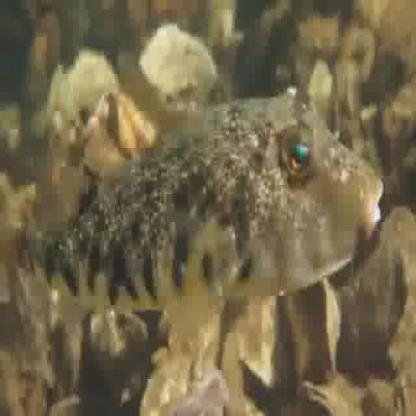Oyster- Indeterminate: (354, 247, 408, 361), (301, 382, 365, 416), (397, 375, 416, 416)
Oyster-Closed: (140, 22, 218, 113), (380, 202, 416, 373), (59, 46, 118, 132), (144, 363, 228, 416), (313, 62, 335, 131), (46, 64, 62, 145)
Oyster-Open: (282, 281, 343, 384)
